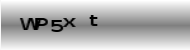5: (50, 19, 63, 33)
P: (35, 18, 48, 31)
W: (19, 17, 40, 31)
t: (88, 13, 98, 26)
x: (62, 17, 76, 28)
